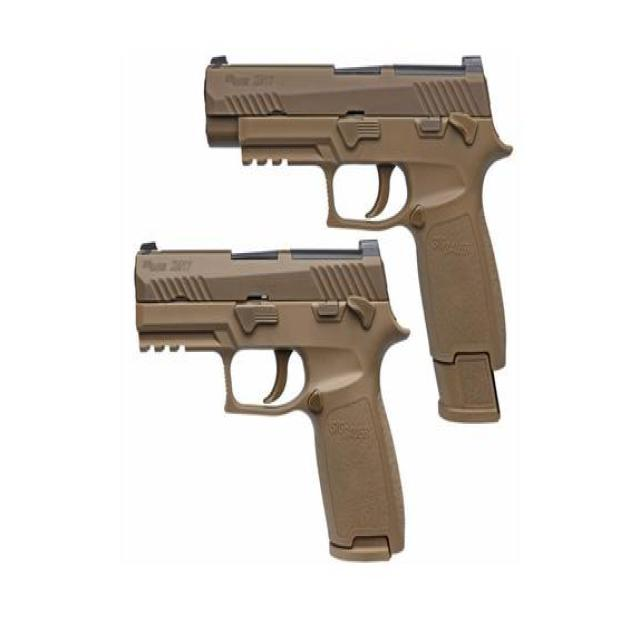Weapon: (204, 57, 511, 421), (136, 241, 408, 560)
